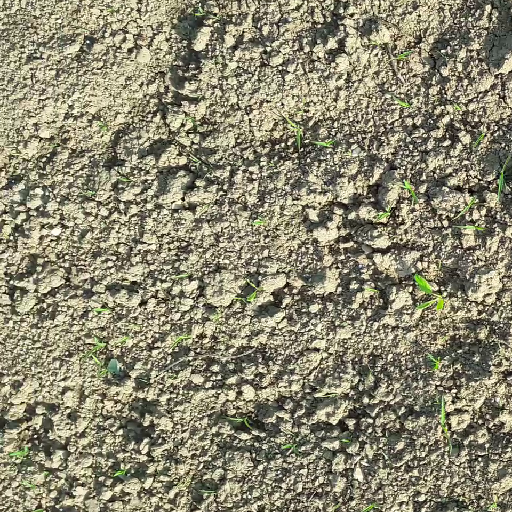sugarbeet: (413, 272, 448, 313), (245, 277, 263, 304)
weed: (77, 304, 191, 371), (448, 190, 487, 235), (491, 148, 512, 204), (283, 112, 306, 153), (437, 392, 453, 450), (227, 414, 258, 434), (312, 133, 341, 151), (401, 180, 421, 206), (5, 444, 29, 464), (109, 465, 133, 483), (469, 127, 485, 151), (278, 444, 305, 458), (392, 95, 418, 109), (371, 209, 394, 222), (391, 48, 417, 59), (428, 354, 442, 372), (358, 500, 379, 512)
